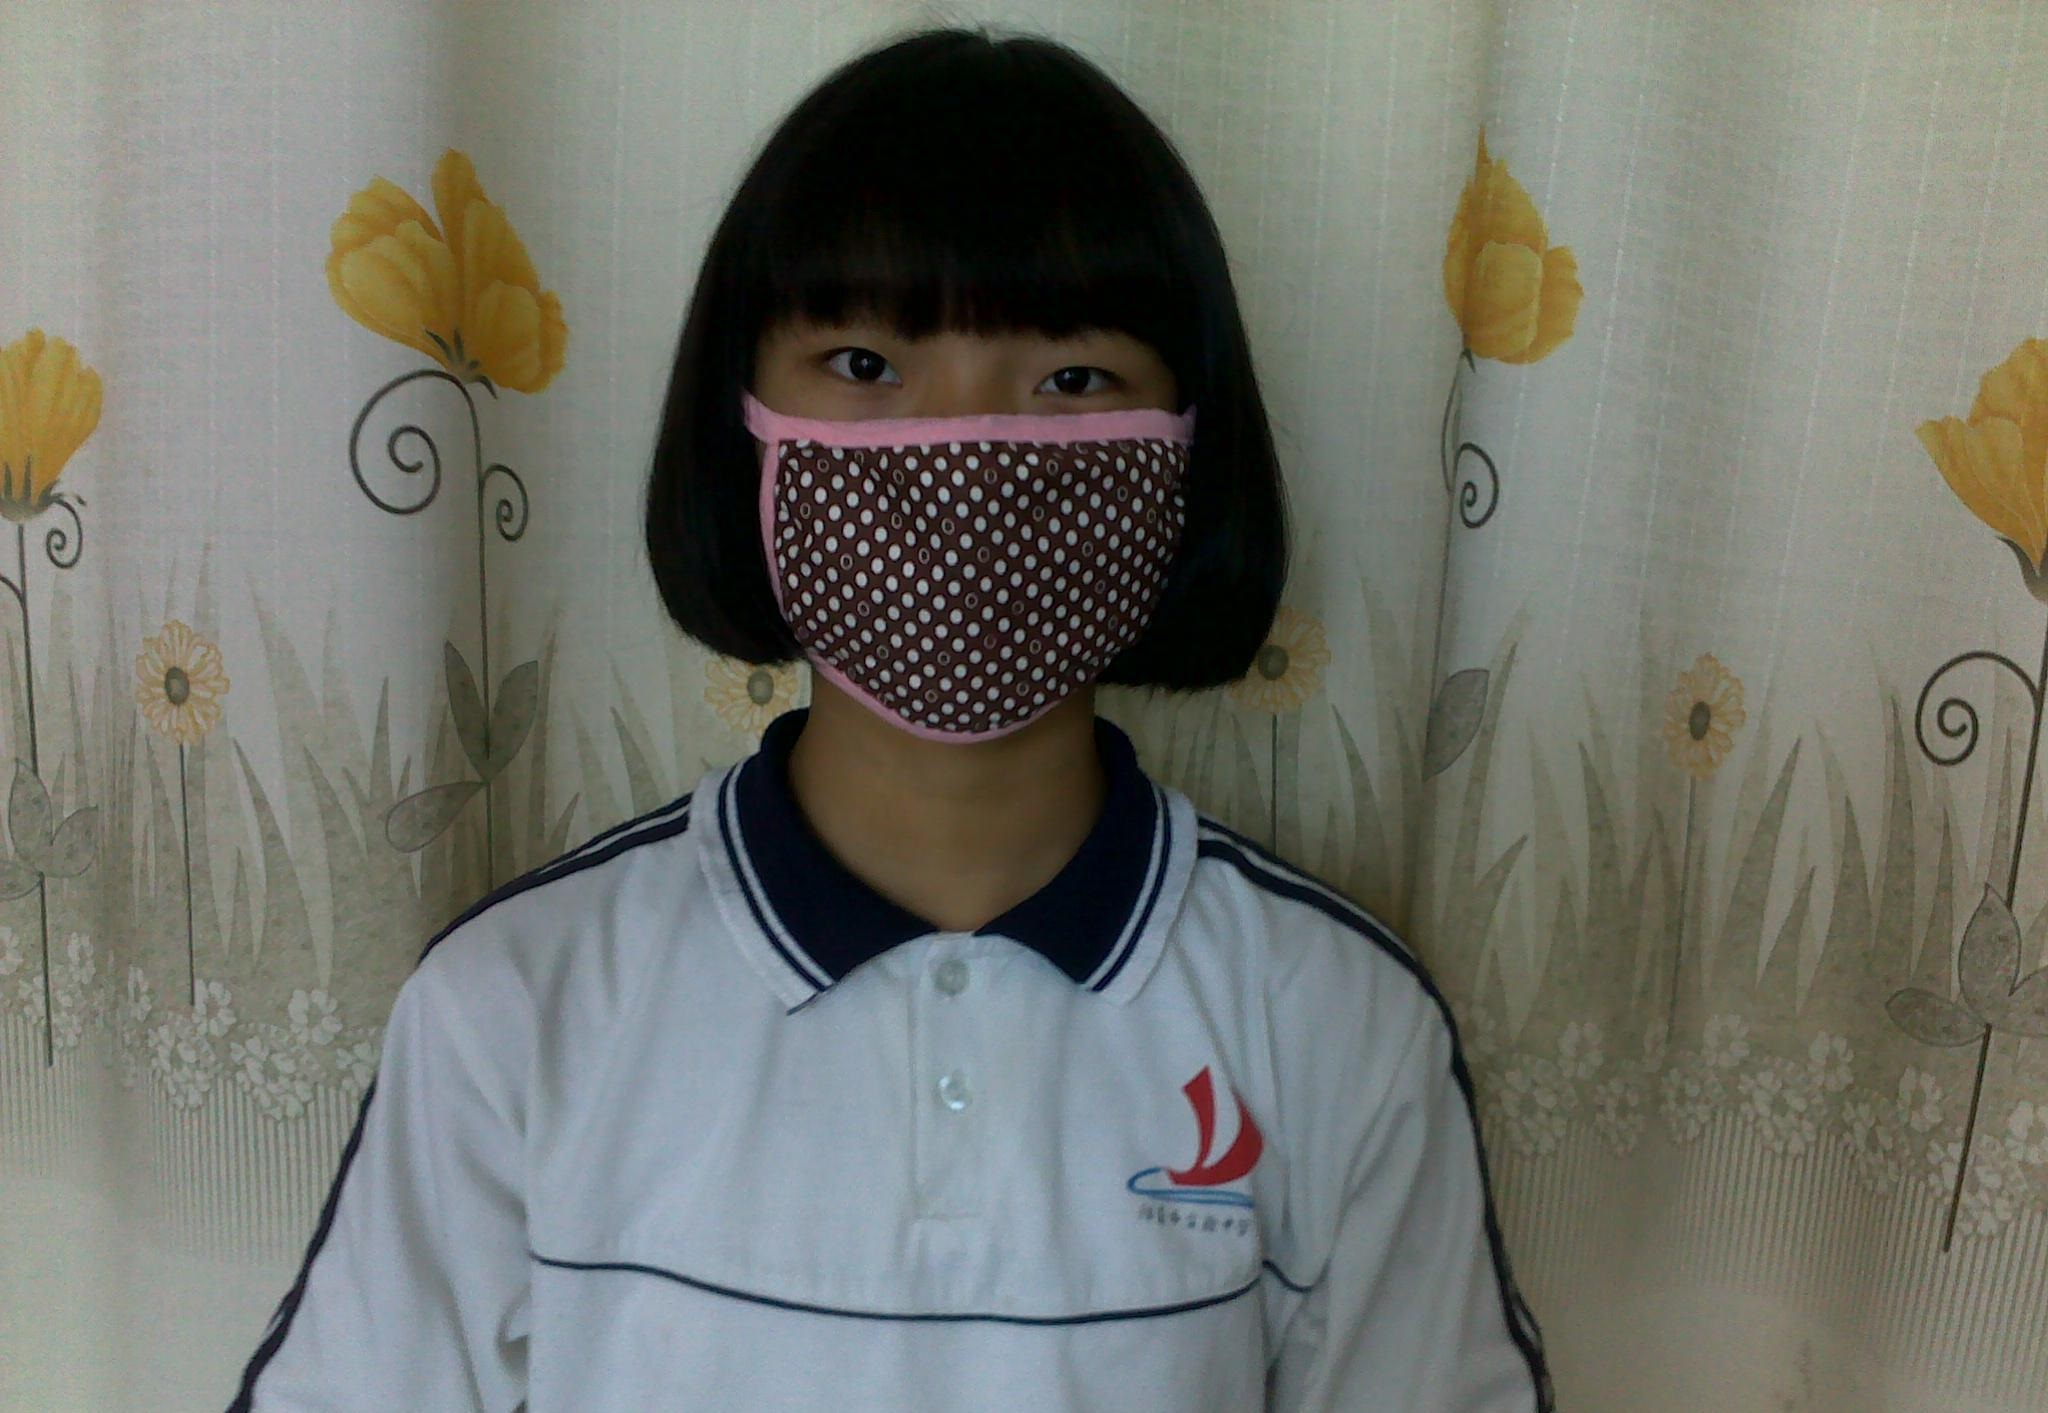face_mask: (756, 342, 1183, 754)
